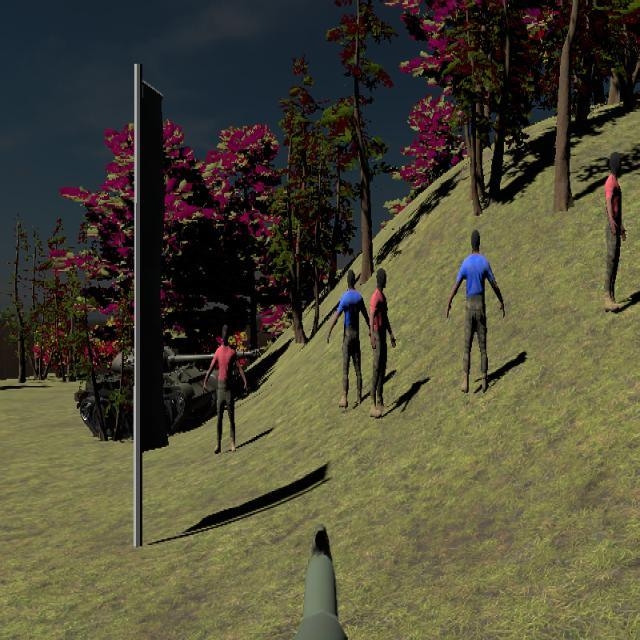Human: (447, 229, 505, 393), (328, 270, 374, 409), (203, 321, 248, 454), (369, 268, 397, 418), (605, 151, 627, 315)
Tank: (77, 346, 259, 441)
